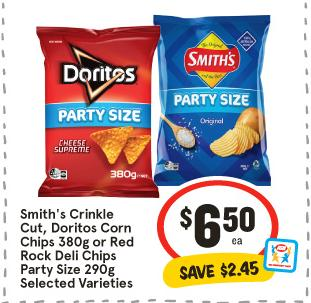description_block: (14, 206, 143, 292)
price_main: (154, 178, 278, 256)
product_image_block: (23, 3, 287, 201)
promo_text_block: (157, 251, 281, 288)
